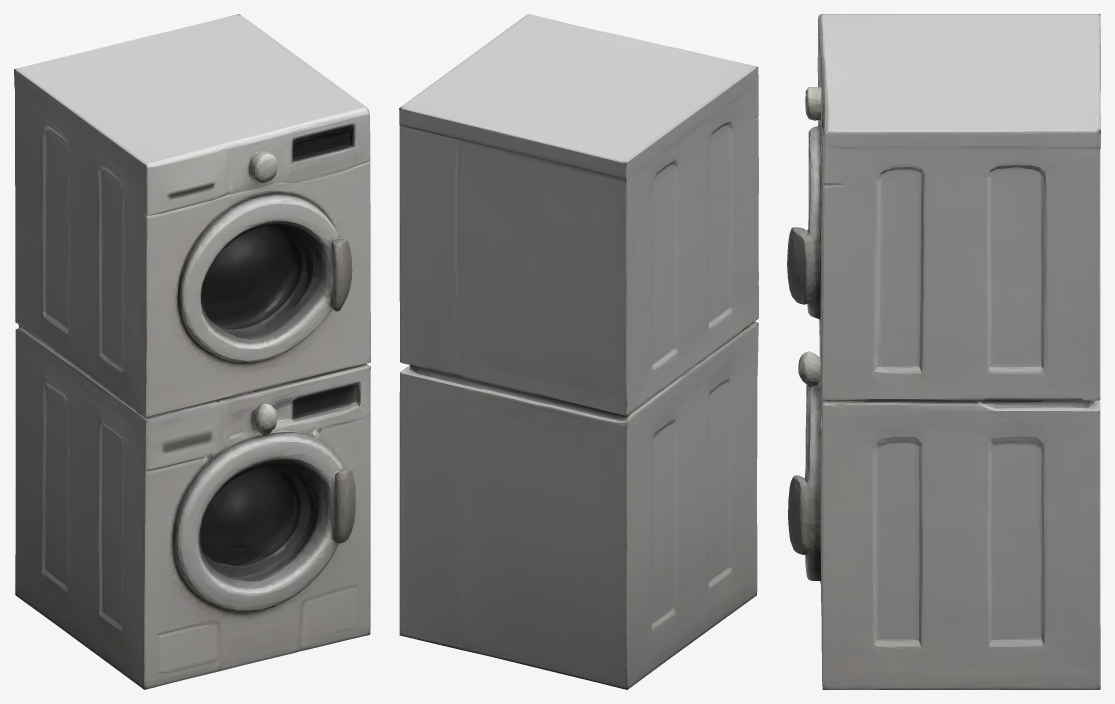
File: laundromat.glb
The picture shows the model from 3 angles, left to right: view 1: azimuth 30°, elevation 25°; view 2: azimuth 150°, elevation 25°; view 3: azimuth 270°, elevation 25°; orthographic projection. The views are drawn at different scales.
Visible parts, largest first — view 1: world; view 2: world; view 3: world.
Part boxes in pixels (x1,y1,x2,y2): world: (14,14,370,689); world: (399,14,758,689); world: (787,14,1100,689).
Bounding box in the file's own units: 0.4511 × 1 × 0.5085.
1 material, 1 textured.
